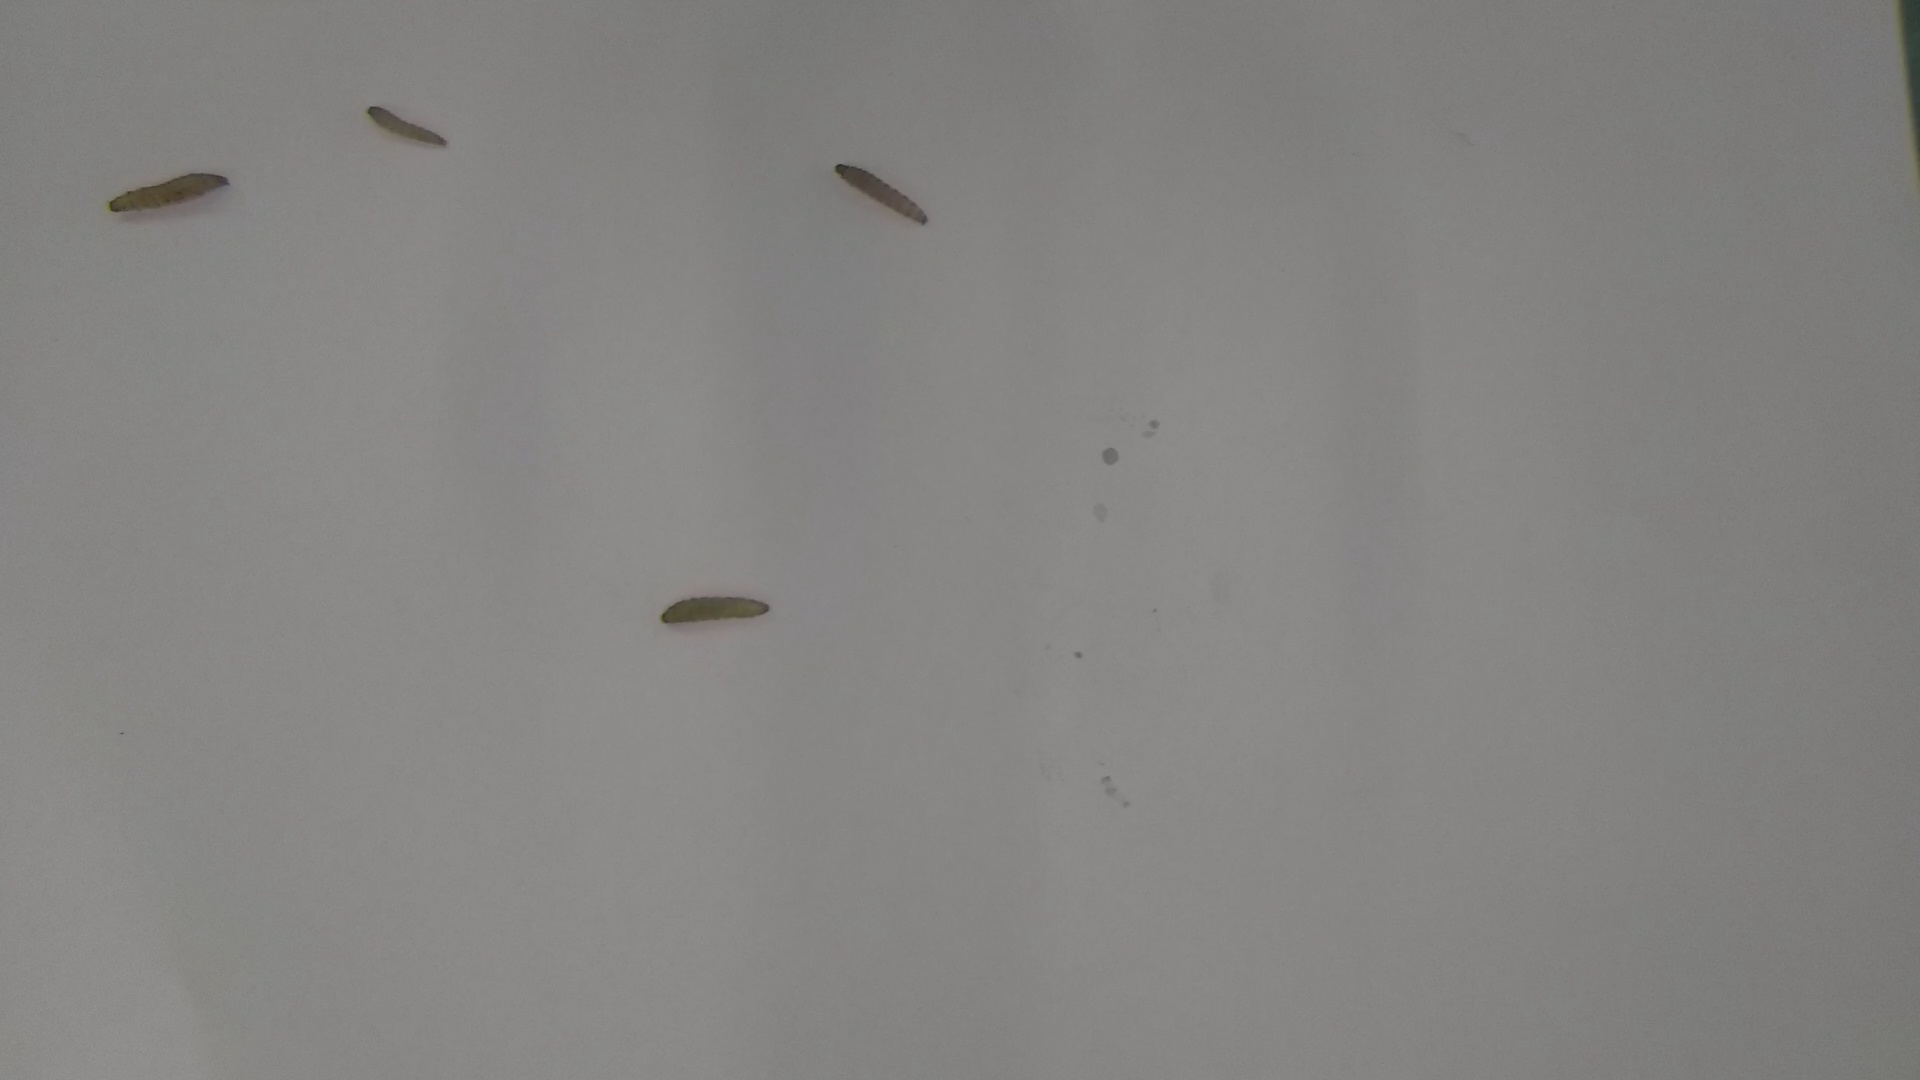efsb: (827, 160, 936, 231), (102, 167, 237, 215), (363, 98, 452, 165), (651, 585, 777, 632)
